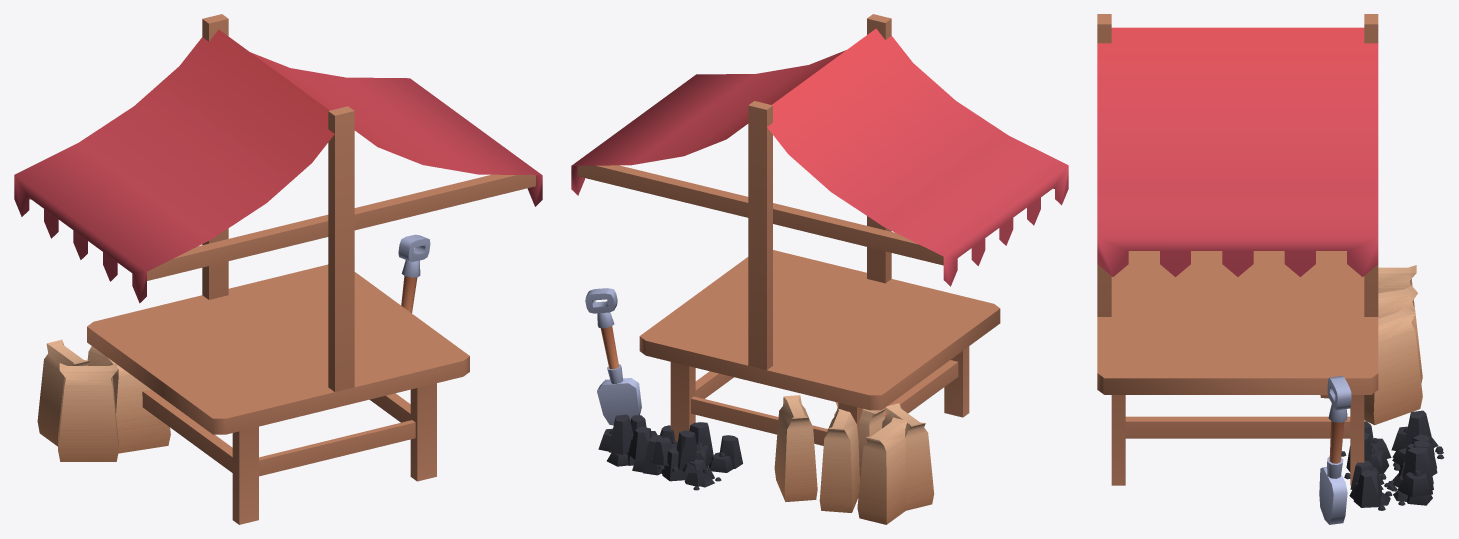
The model's file is london_stall_coal.glb.
The picture shows the model from 3 angles, left to right: view 1: azimuth 30°, elevation 25°; view 2: azimuth 150°, elevation 25°; view 3: azimuth 270°, elevation 25°; orthographic projection. The views are drawn at different scales.
Parts seen in each view (by area): view 1: Coal stall timber frame and red canopy, Coal sack 3, Coal sack 4, Coal sack 0, Coal shovel; view 2: Coal stall timber frame and red canopy, Coal sack 0, Coal sack 2, Coal sack 1, Coal shovel, Coal sack 3, Coal lump 8, Coal lump 11, Coal lump 4, Coal sack 4, Coal lump 10, Coal lump 0; view 3: Coal stall timber frame and red canopy, Coal sack 2, Coal shovel, Coal lump 11, Coal lump 7, Coal sack 1, Coal lump 8, Coal sack 0, Coal lump 5.
Boxes of the visible parts, x1=… form: Coal stall timber frame and red canopy: x1=14, y1=14, x2=542, y2=524; Coal sack 3: x1=58, y1=363, x2=118, y2=461; Coal sack 4: x1=108, y1=358, x2=170, y2=453; Coal sack 0: x1=37, y1=339, x2=89, y2=446; Coal shovel: x1=398, y1=234, x2=430, y2=313; Coal stall timber frame and red canopy: x1=571, y1=14, x2=1068, y2=445; Coal sack 0: x1=857, y1=417, x2=907, y2=524; Coal sack 2: x1=774, y1=395, x2=817, y2=501; Coal sack 1: x1=819, y1=406, x2=859, y2=512; Coal shovel: x1=585, y1=288, x2=641, y2=425; Coal sack 3: x1=882, y1=403, x2=934, y2=510; Coal lump 8: x1=672, y1=430, x2=712, y2=473; Coal lump 11: x1=598, y1=414, x2=633, y2=454; Coal lump 4: x1=709, y1=435, x2=742, y2=472; Coal sack 4: x1=834, y1=402, x2=885, y2=480; Coal lump 10: x1=628, y1=426, x2=652, y2=462; Coal lump 0: x1=685, y1=459, x2=721, y2=490; Coal stall timber frame and red canopy: x1=1097, y1=14, x2=1378, y2=485; Coal sack 2: x1=1364, y1=307, x2=1422, y2=425; Coal shovel: x1=1319, y1=376, x2=1351, y2=524; Coal lump 11: x1=1387, y1=447, x2=1433, y2=497; Coal lump 7: x1=1349, y1=469, x2=1392, y2=510; Coal sack 1: x1=1378, y1=285, x2=1422, y2=383; Coal lump 8: x1=1391, y1=410, x2=1443, y2=452; Coal sack 0: x1=1378, y1=265, x2=1416, y2=307; Coal lump 5: x1=1344, y1=433, x2=1389, y2=479.
Size of the model in its own units: 6.22 by 5.88 by 4.45.
Materials: 4 (4 with a texture image).
